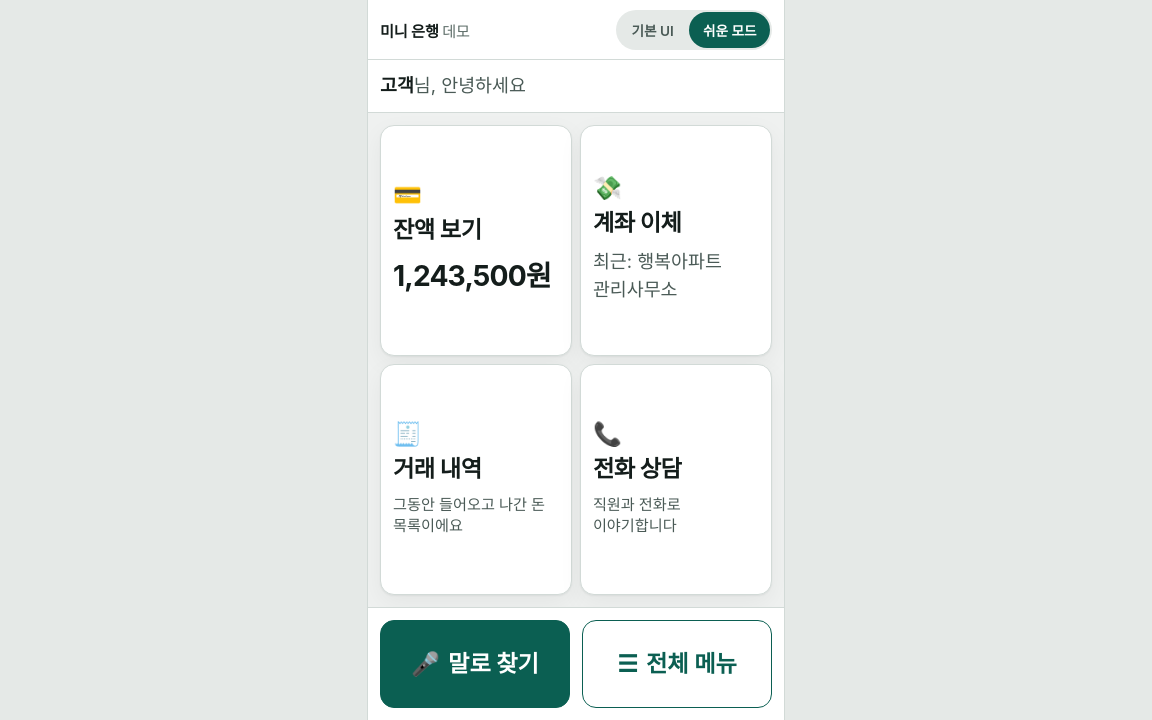
Test: 보내는 통장 고르기 › 통장이 여럿이면 고를 수 있고, 처음에는 주거래 통장이 골라져 있다
Expected: the element named "화면 방식" is shown, [616,10,772,50]
What coordinates should you click on to do the following:
click the button "💸 계좌 이체 최근: 행복아파트 관리사무소"
I would click on:
 (676, 240)
Its box is [580,125,772,356].
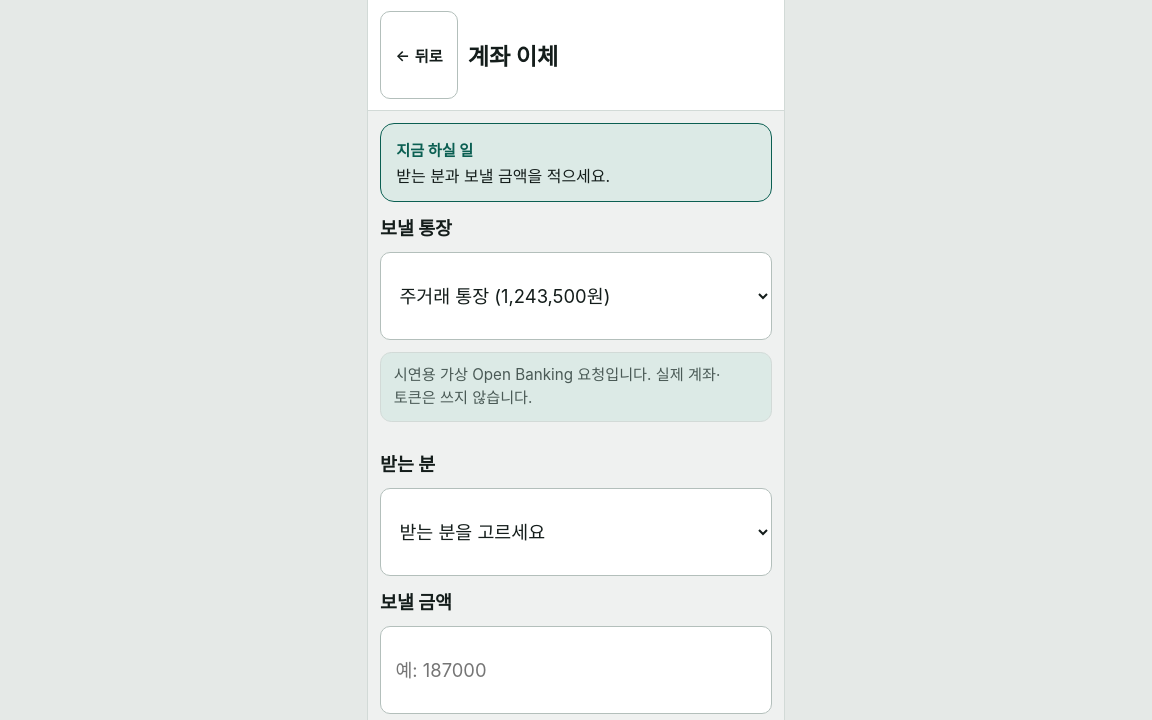
Result: the dropdown labelled "보낼 통장" shows "주거래 통장 (1,243,500원)" at [380,252,772,340]
